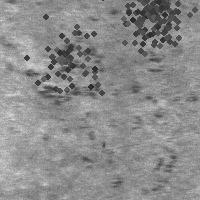rolled-in_scale: (12, 7, 116, 111), (115, 51, 178, 194), (95, 0, 200, 63), (23, 28, 102, 105), (107, 0, 193, 59)
